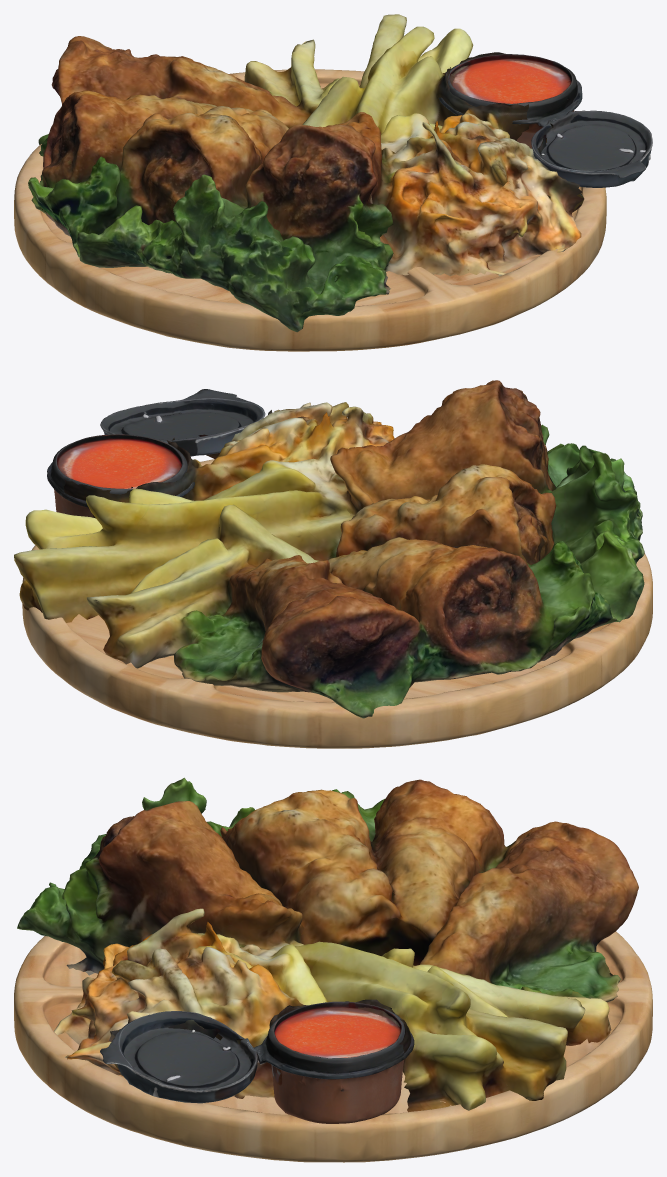
The model's file is royal4.glb.
3 renders of one model, top to bottom at view 1: azimuth 30°, elevation 25°; view 2: azimuth 150°, elevation 25°; view 3: azimuth 270°, elevation 25°, orthographic. The views are drawn at different scales.
Parts seen in each view (by area): view 1: 3DModel, Mesh_0, Mesh_0.002; view 2: 3DModel, Mesh_0, Mesh_0.002; view 3: 3DModel, Mesh_0, Mesh_0.002.
Part boxes in pixels (x1=…): 3DModel: x1=28, y1=14, x2=584, y2=332; Mesh_0: x1=14, y1=69, x2=606, y2=351; Mesh_0.002: x1=439, y1=54, x2=652, y2=187; 3DModel: x1=14, y1=380, x2=644, y2=718; Mesh_0: x1=22, y1=459, x2=652, y2=748; Mesh_0.002: x1=47, y1=389, x2=265, y2=517; 3DModel: x1=17, y1=777, x2=638, y2=1112; Mesh_0: x1=14, y1=931, x2=652, y2=1162; Mesh_0.002: x1=100, y1=1001, x2=414, y2=1123.
Size of the model in its own units: 0.2819 by 0.089 by 0.2705.
Materials: 3 (3 with a texture image).
